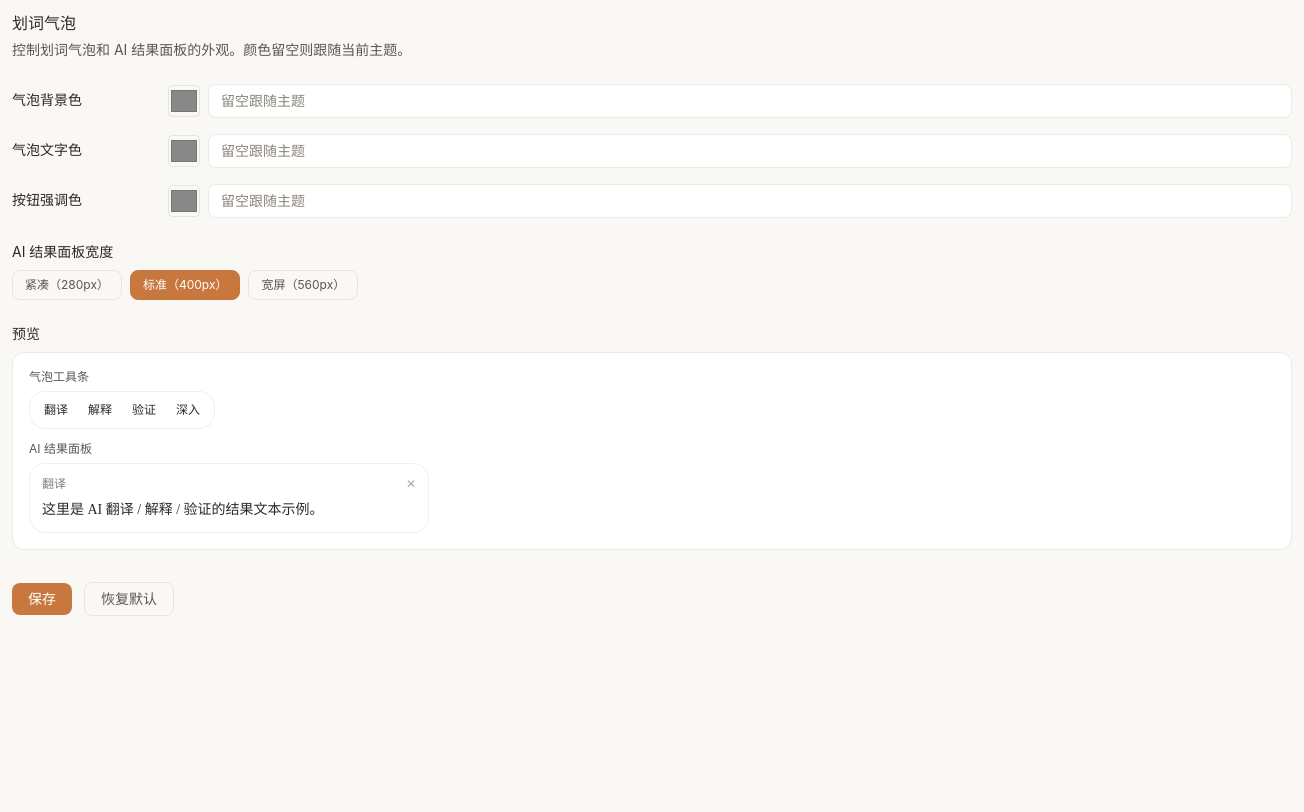
it: SelectionAppearance › rejects invalid color text without applying it to the preview
The image size is (1304, 812).
Step 1. Type "red" into the field named "气泡背景色颜色值" → coordinates (750, 101), box [208,84,1292,118]
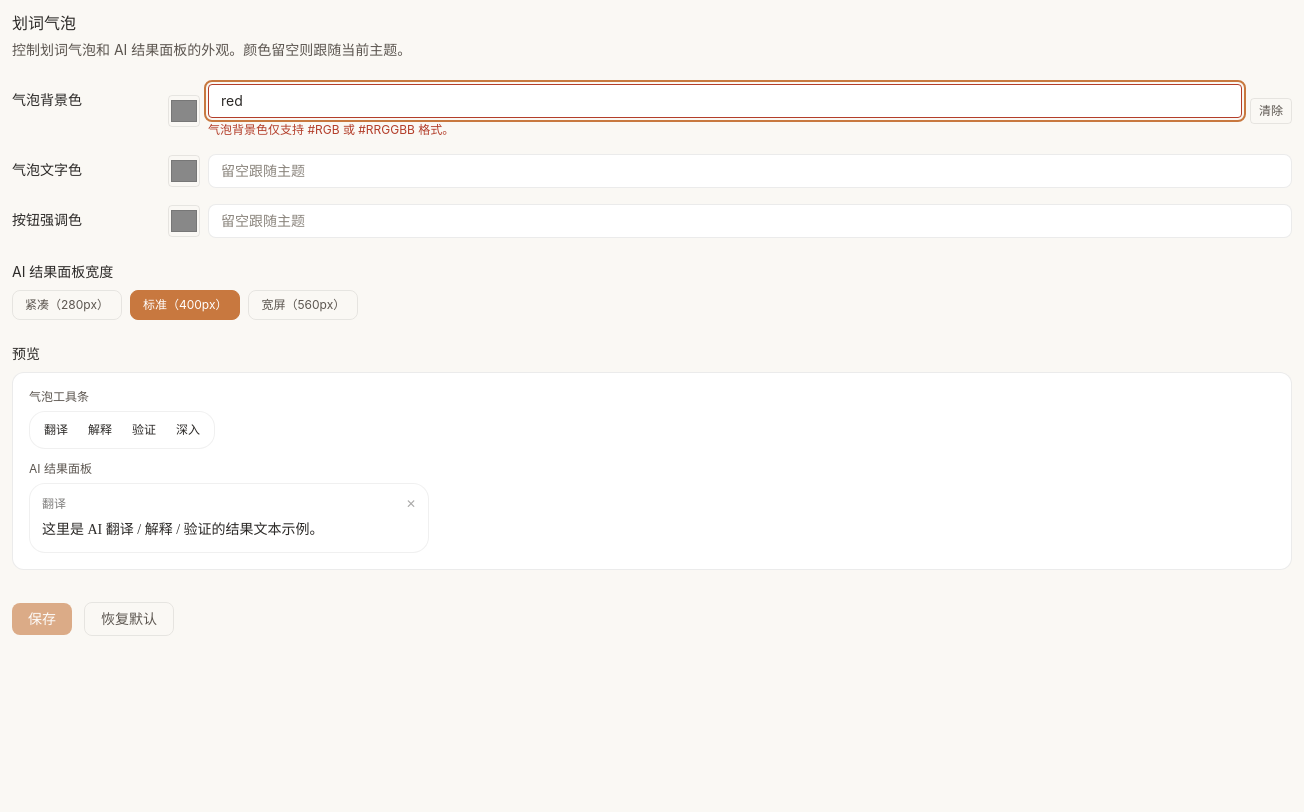
Result: the message reads "气泡背景色仅支持 #RGB 或 #RRGGBB 格式。" at [208,122,454,137]
Result: the button "保存" is disabled at [12,603,72,635]
